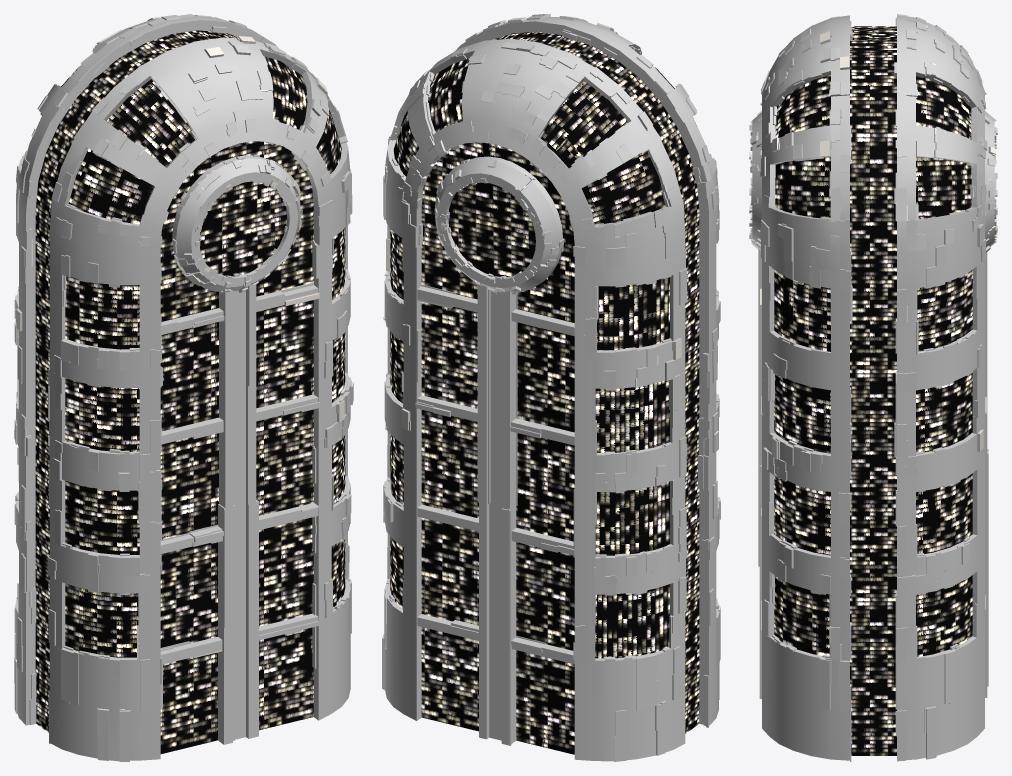
The model's file is Star_1.glb.
3 views of the same model, side by side, from view 1: azimuth 30°, elevation 25°; view 2: azimuth 150°, elevation 25°; view 3: azimuth 270°, elevation 25° (orthographic).
Visible parts, largest first — view 1: Building1_Metal2_0, Building1_Windows4_0, Building1_WhiteLight_0; view 2: Building1_Metal2_0, Building1_Windows4_0, Building1_WhiteLight_0; view 3: Building1_Metal2_0, Building1_Windows4_0, Building1_WhiteLight_0.
Boxes of the visible parts, <box> form: Building1_Metal2_0: <box>14,14,353,761</box>; Building1_Windows4_0: <box>35,30,345,753</box>; Building1_WhiteLight_0: <box>14,15,353,710</box>; Building1_Metal2_0: <box>382,14,720,761</box>; Building1_Windows4_0: <box>390,31,699,754</box>; Building1_WhiteLight_0: <box>383,16,720,761</box>; Building1_Metal2_0: <box>749,14,997,761</box>; Building1_Windows4_0: <box>774,26,972,755</box>; Building1_WhiteLight_0: <box>749,25,997,685</box>.
Bounding box in the file's own units: 3.72 × 8.08 × 2.74.
Materials: 3 (1 with a texture image).
